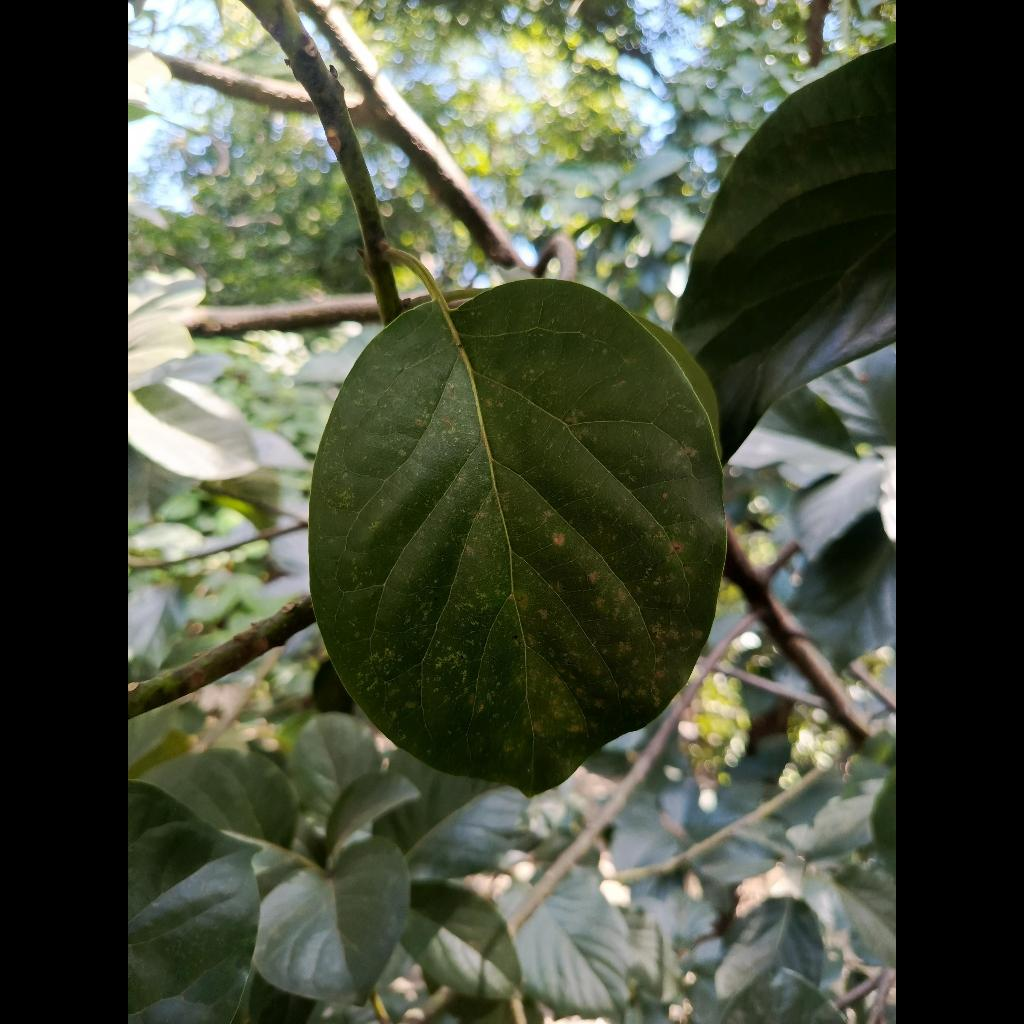antracnosis_hoja: (309, 281, 725, 795)
